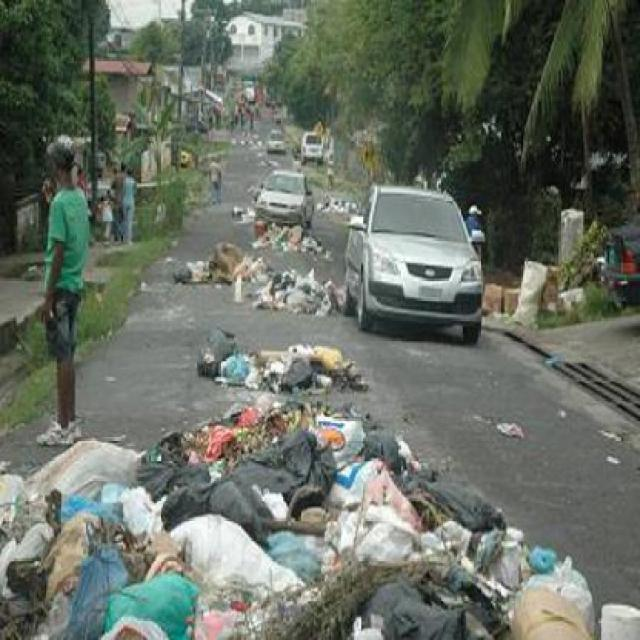garbage: (6, 442, 640, 639), (197, 331, 378, 441), (178, 238, 344, 320), (508, 257, 582, 326), (236, 215, 317, 254), (320, 188, 362, 222), (494, 412, 532, 436), (541, 351, 574, 374), (594, 423, 624, 446), (235, 131, 268, 151)
